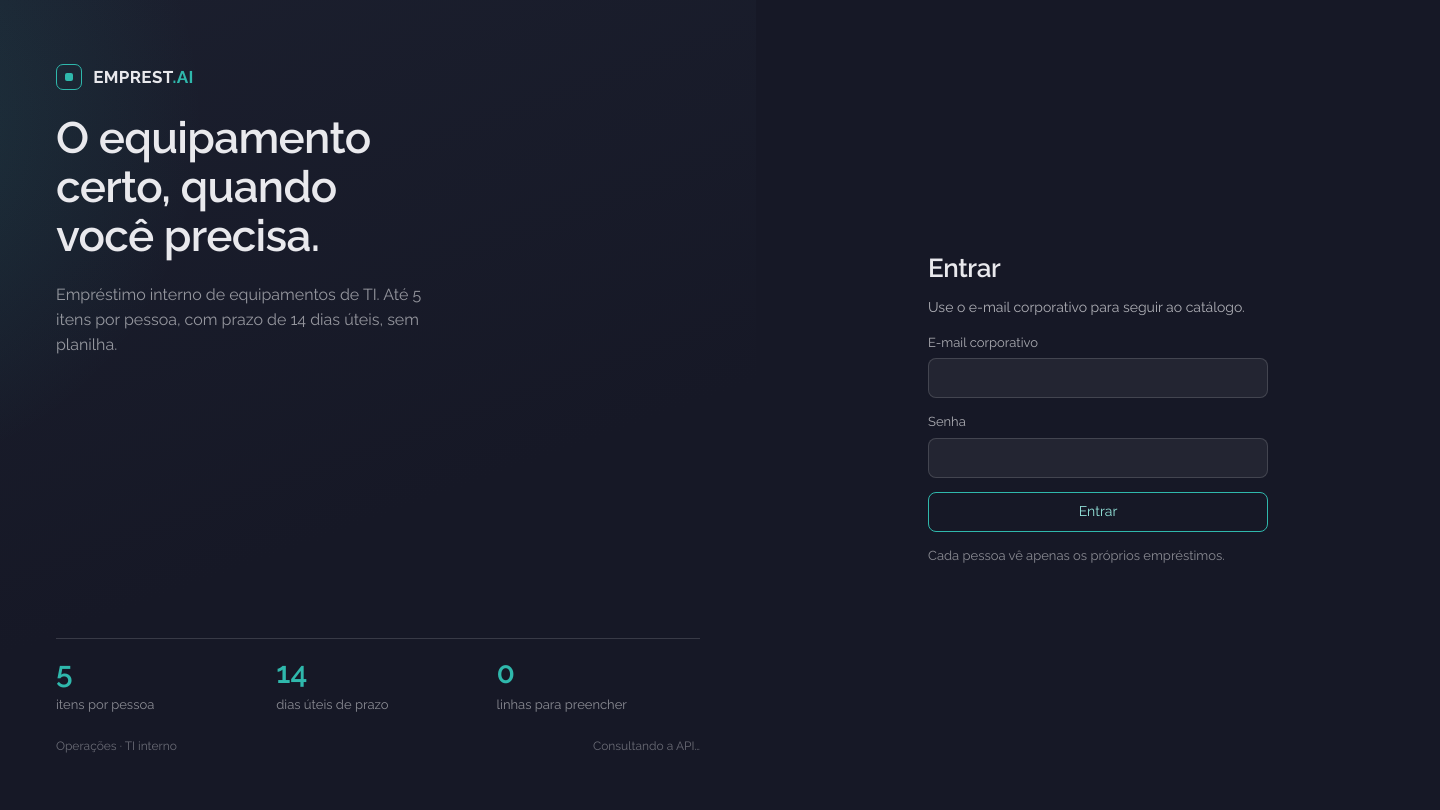
Test: login › CA-01: e-mail e senha válidos levam à área logada, com o e-mail e o botão Sair
Type "ryan@exemplo.local" into the field labelled "E-mail corporativo".
click(1098, 378); type("ryan@exemplo.local")  # box [928,358,1268,398]
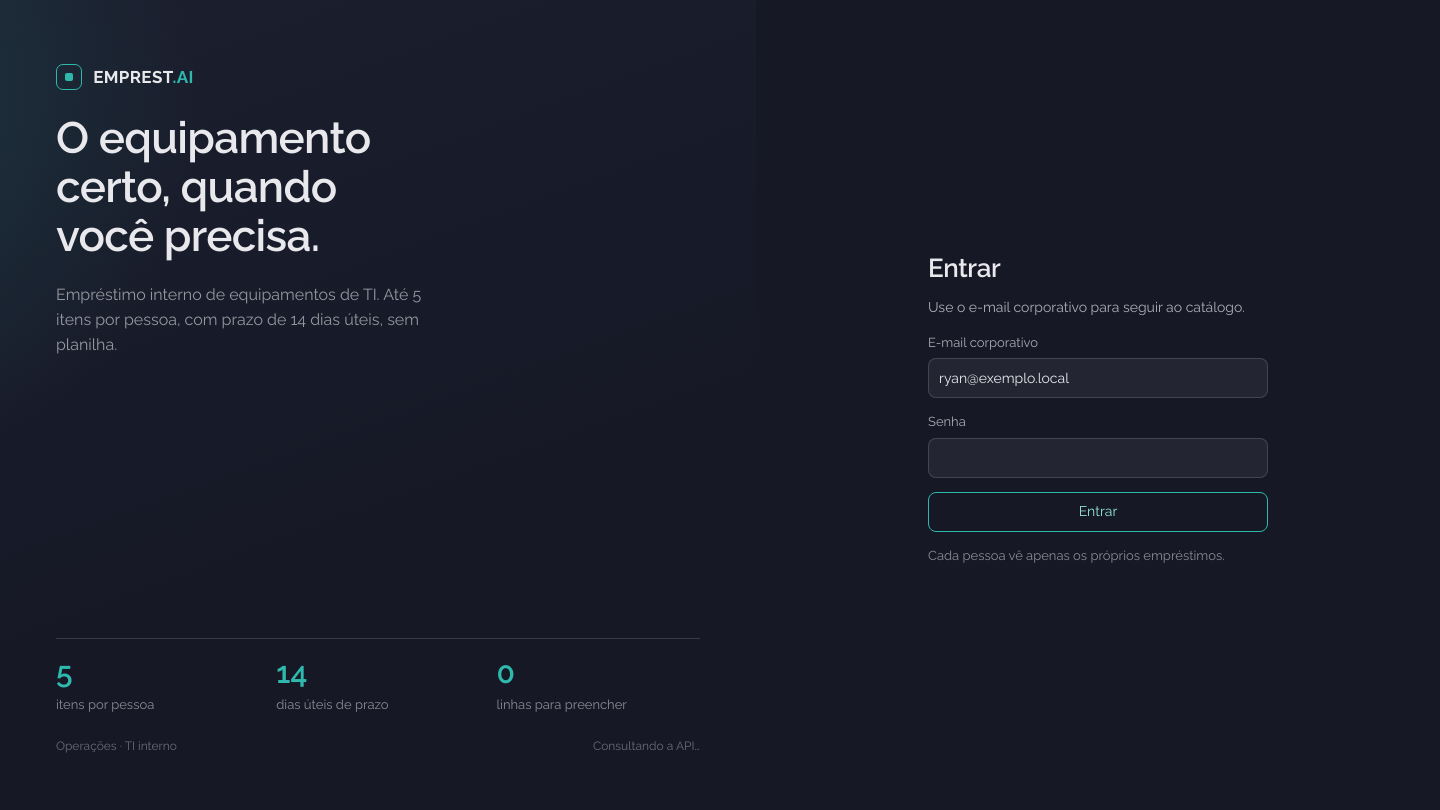
Type "segredo" into the password field labelled "Senha".
click(1098, 458); type("segredo")  # box [928,438,1268,478]
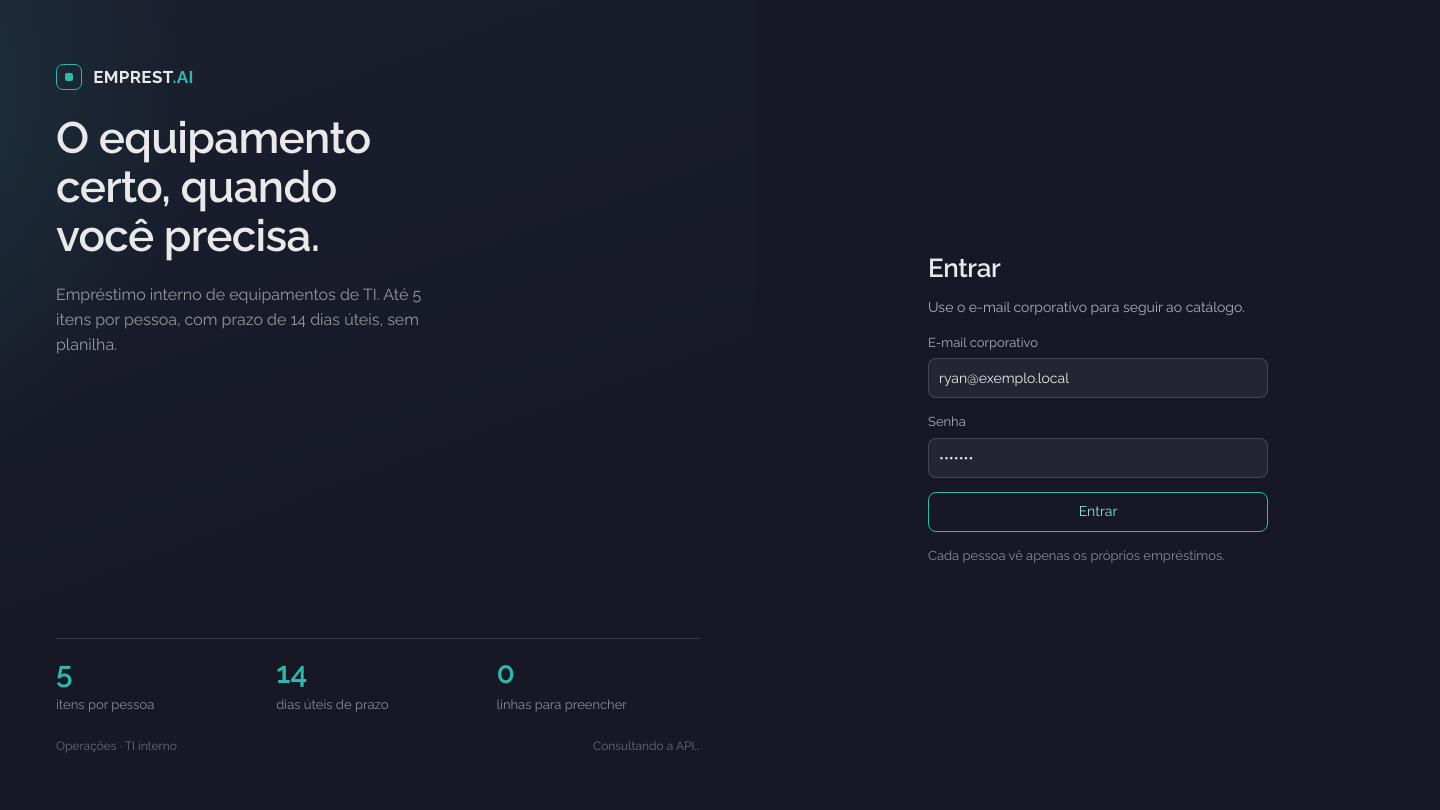
Click the button "Entrar".
click(1098, 512)  # box [928,492,1268,532]
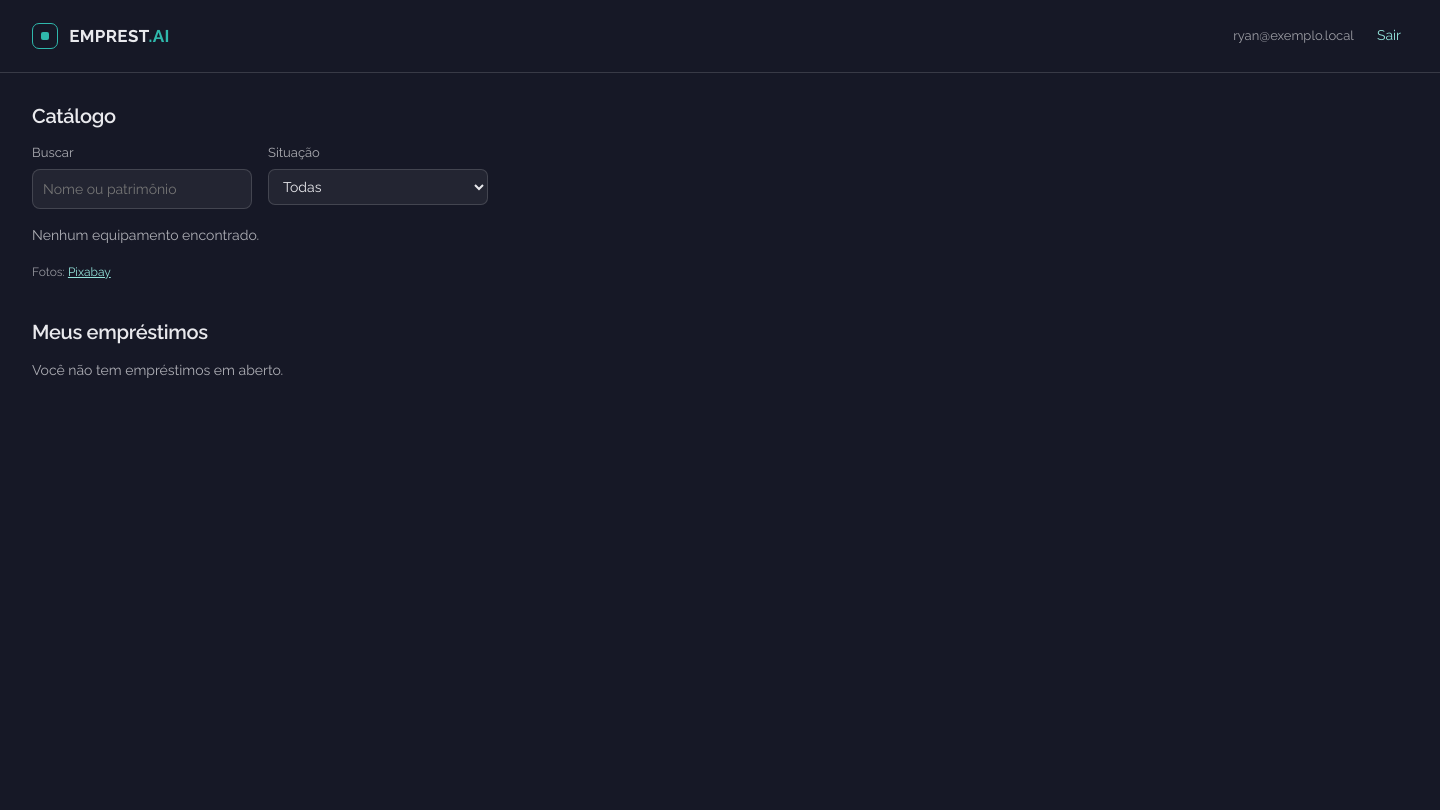
Expected: the button "Sair" is shown, [1370,16,1408,56]
Expected: the text "ryan@exemplo.local" is shown, [1233,26,1354,46]
